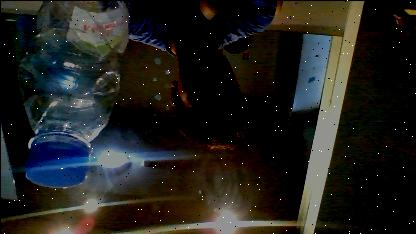Plastic Bottle: (11, 0, 131, 188)
